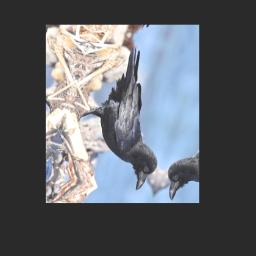Crow: (60, 36, 191, 194)
